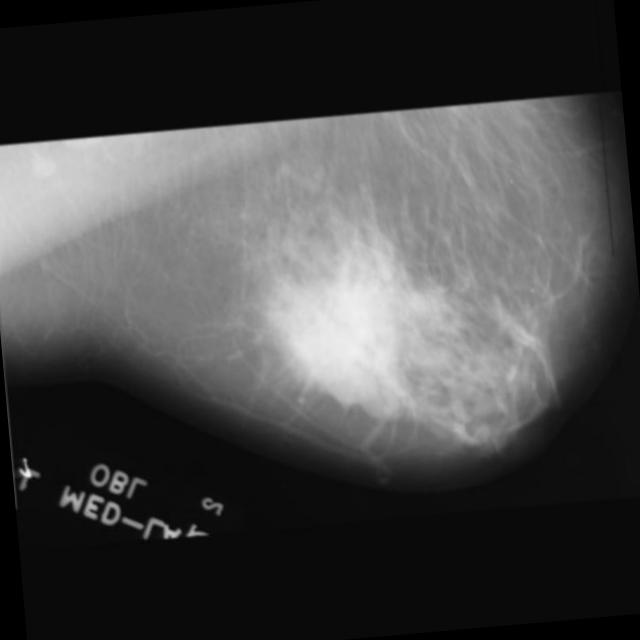ASYM: (257, 242, 434, 419)
